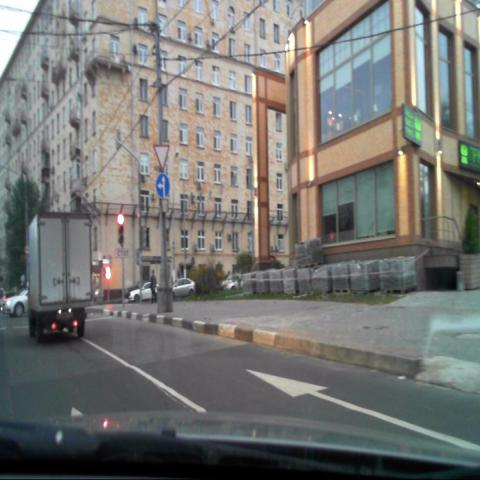4_1_5: (156, 174, 170, 198)
